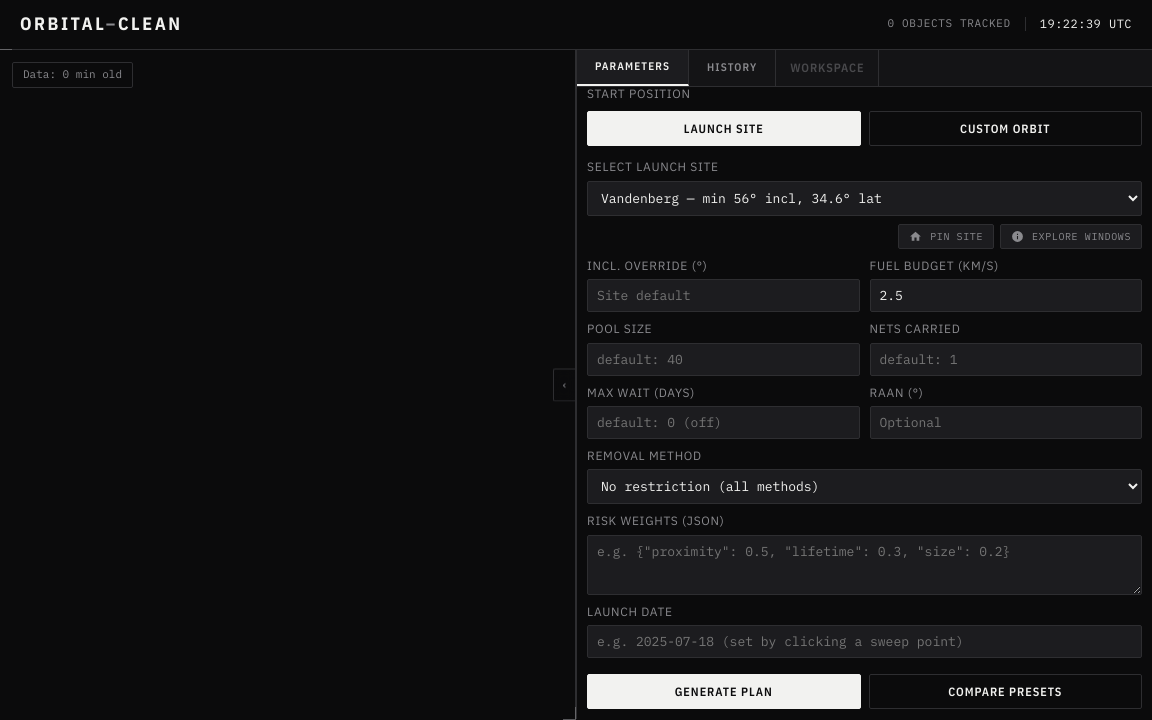
Test case: 3. Two entries — tab #1 click replaces Workspace from #2 to #1 › two tabs exist; clicking #1 while #2 shown switches Workspace to #1
The width and height of the screenshot is (1152, 720).
(page scrolled)
Click the button "Generate plan": (724, 692) [587,674,860,709]
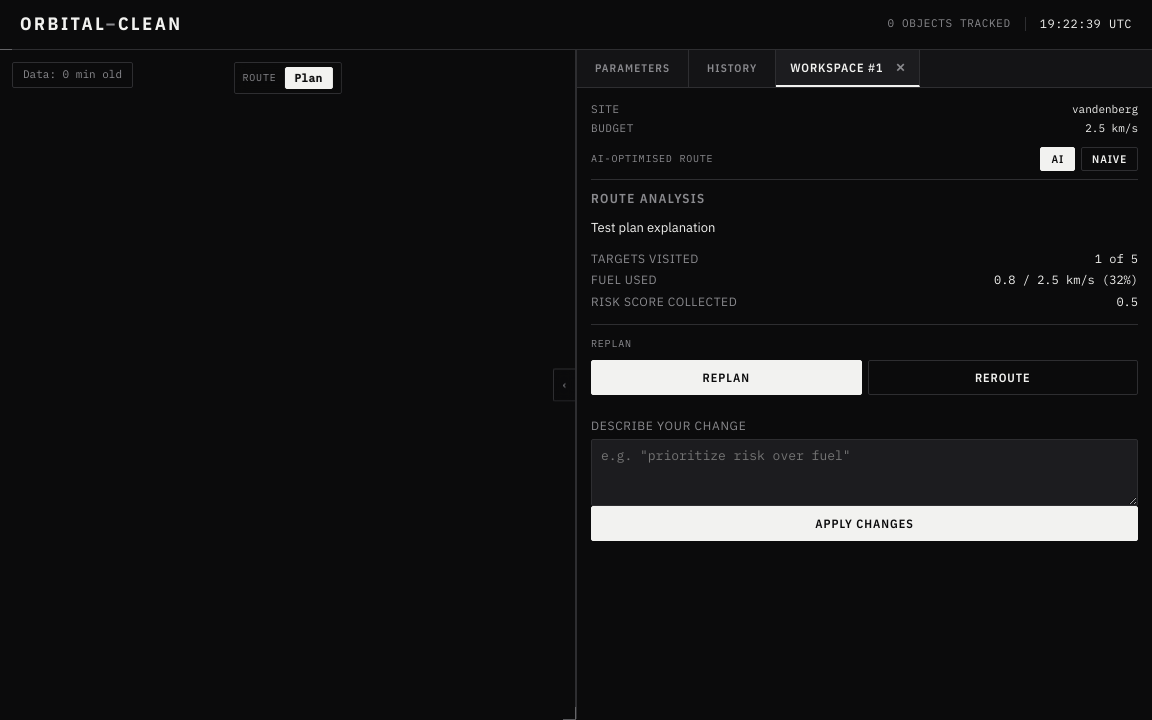
Expected: the text with test id "workspace-title" reads "Workspace #1", [790,59,883,76]
Click the tab with test id "panel-tab-parameters": (633, 69) [577,50,689,88]
(page scrolled)
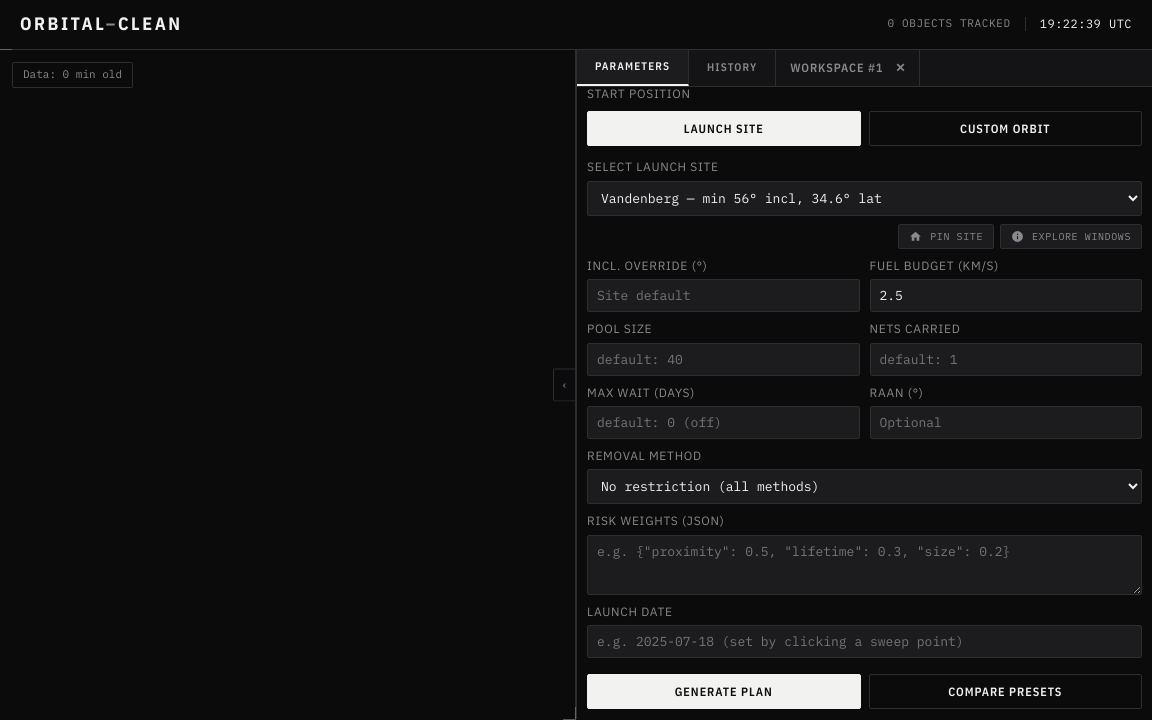
Click the button "Generate plan": (724, 692) [587,674,860,709]
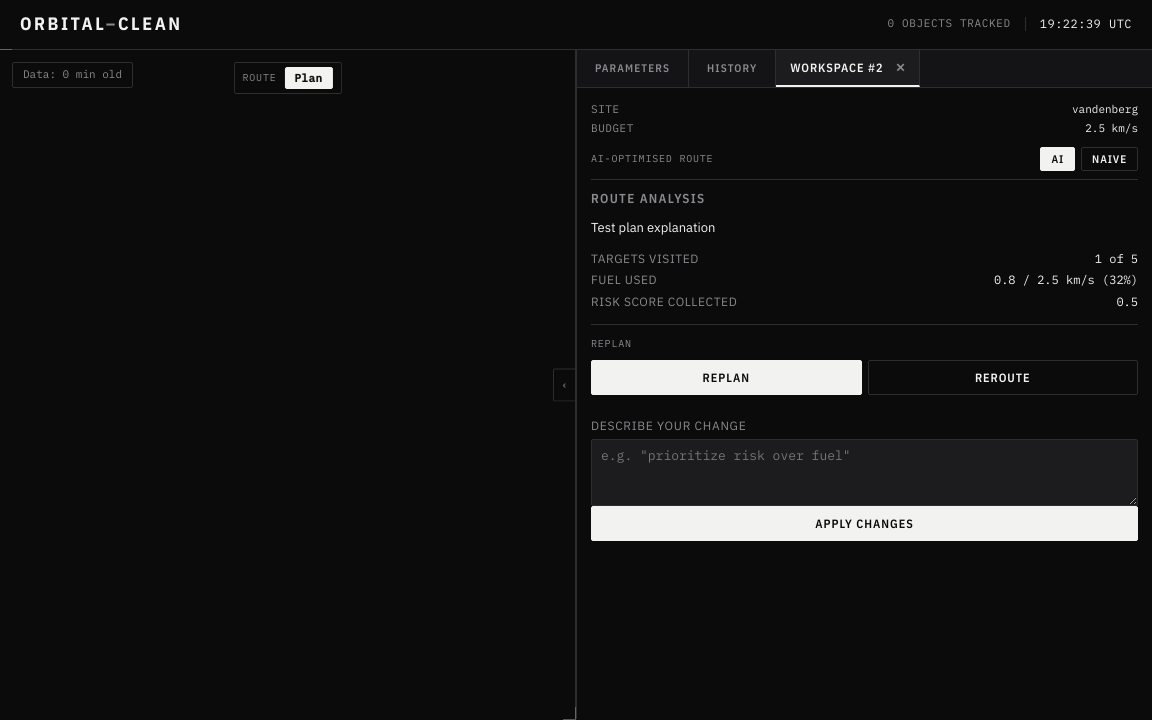
Expected: the text with test id "workspace-title" reads "Workspace #2", [790,59,883,76]
Click the tab with test id "panel-tab-history": (733, 69) [689,50,776,88]
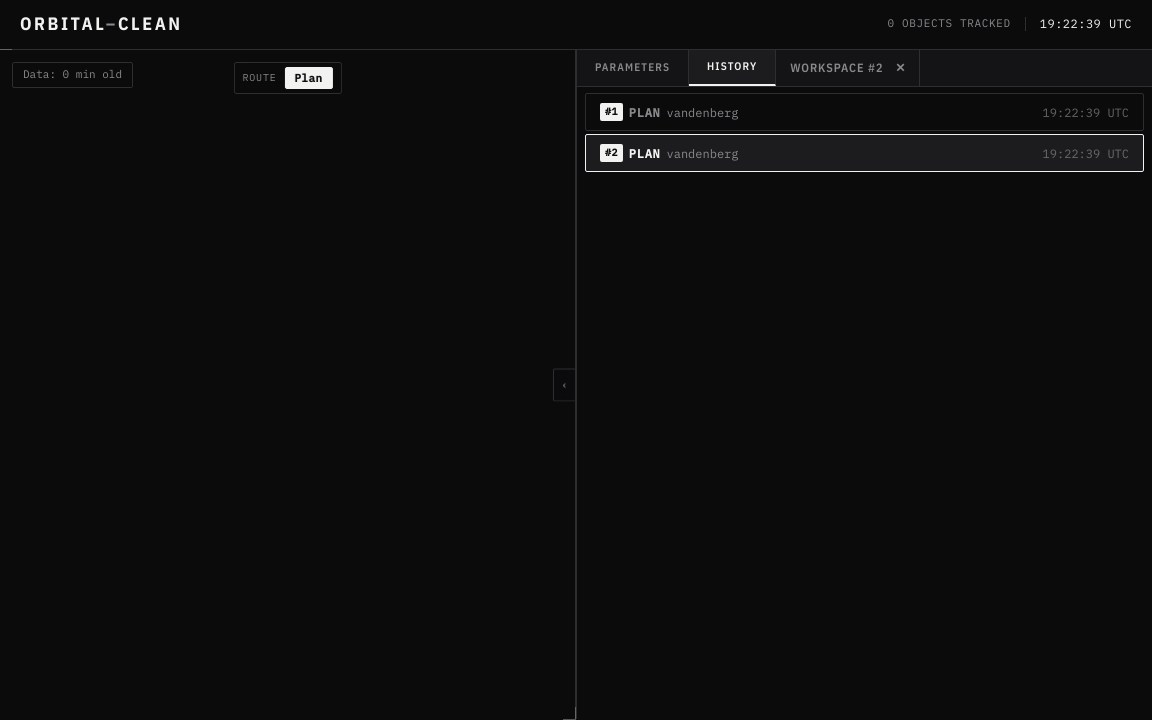
Expected: the button with test id "history-tab-2" is shown, [585,134,1144,172]
Click the button with test id "history-tab-1": (645, 112) [585,93,1144,131]
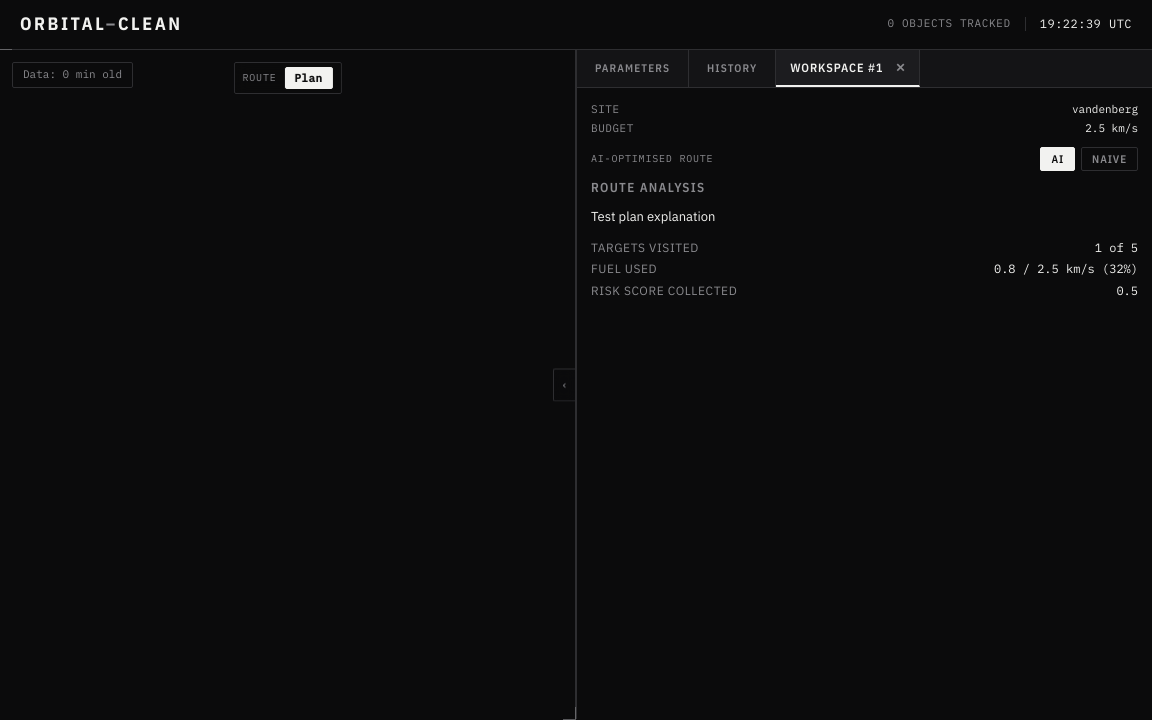
Expected: the number of elements with test id "workspace-title" is 1, [790,59,883,76]
Expected: the text with test id "workspace-title" reads "Workspace #1", [790,59,883,76]
Click the tab with test id "panel-tab-history": (733, 69) [689,50,776,88]
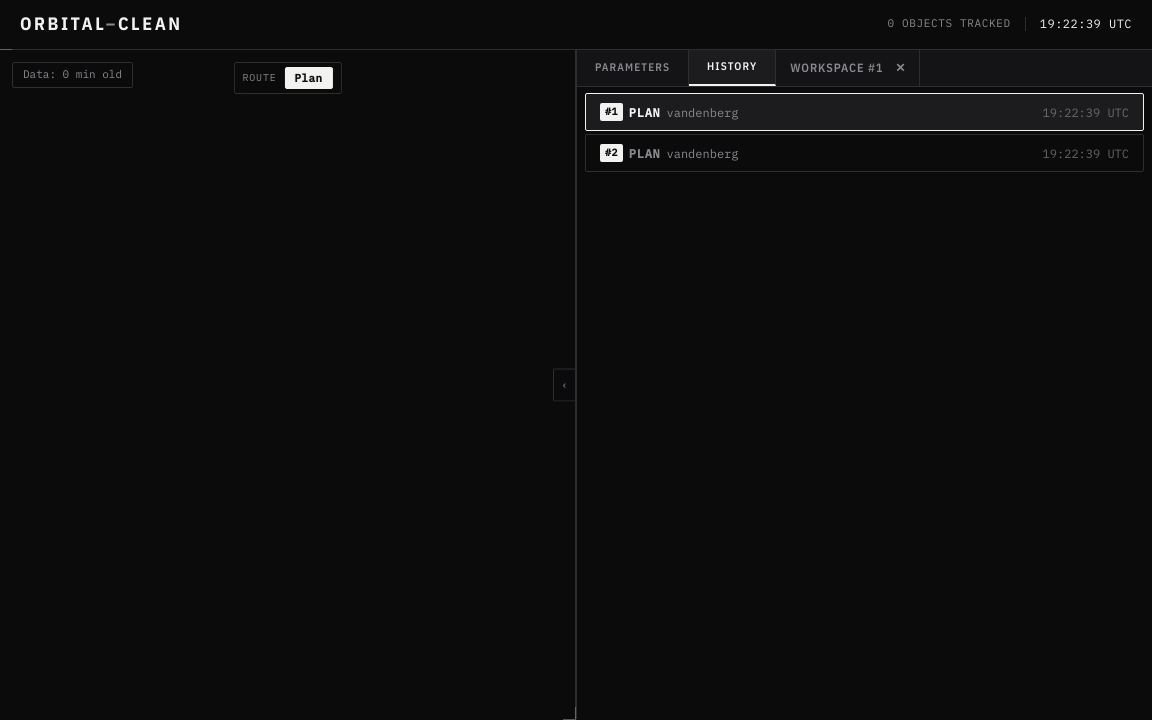
Expected: the button with test id "history-tab-2" is shown, [585,134,1144,172]
